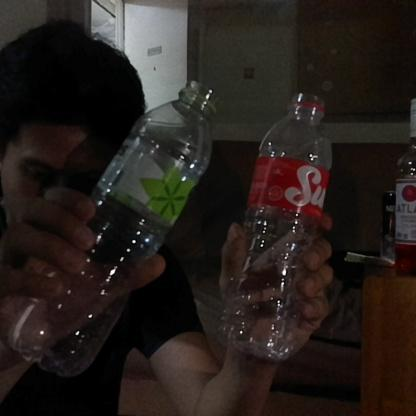plastic_bottles: (16, 78, 220, 380), (216, 90, 336, 355)
